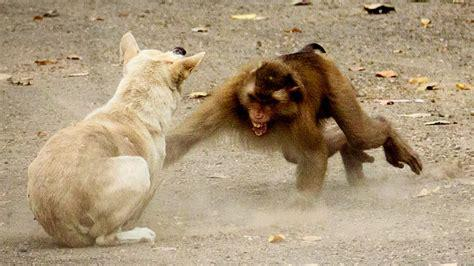dog: (28, 32, 203, 246)
monkey: (164, 43, 422, 199)
